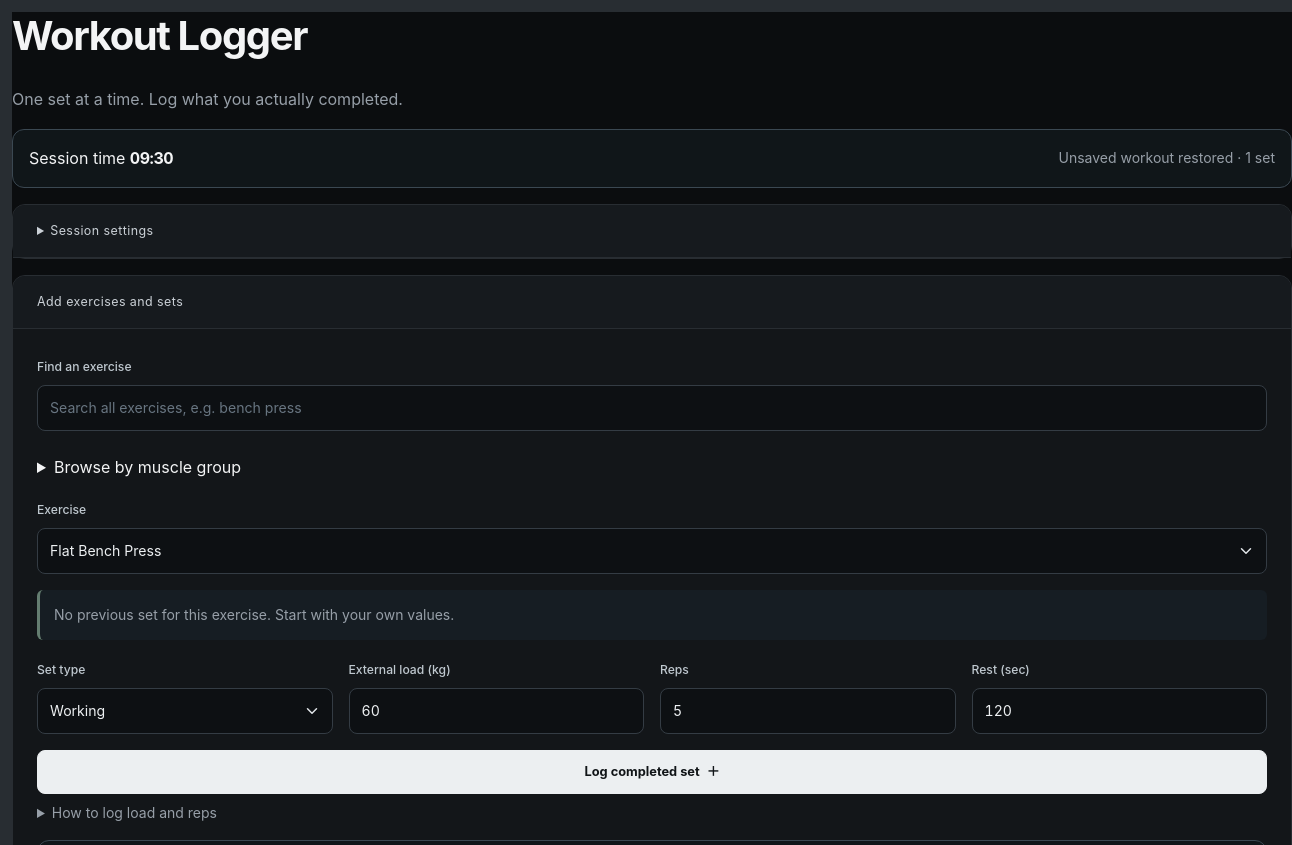
Test: workout logger › changes the split, its day and the duration in the session settings
The width and height of the screenshot is (1292, 845).
Click the heading "Session settings" at (102, 231), box [13, 205, 1291, 258]
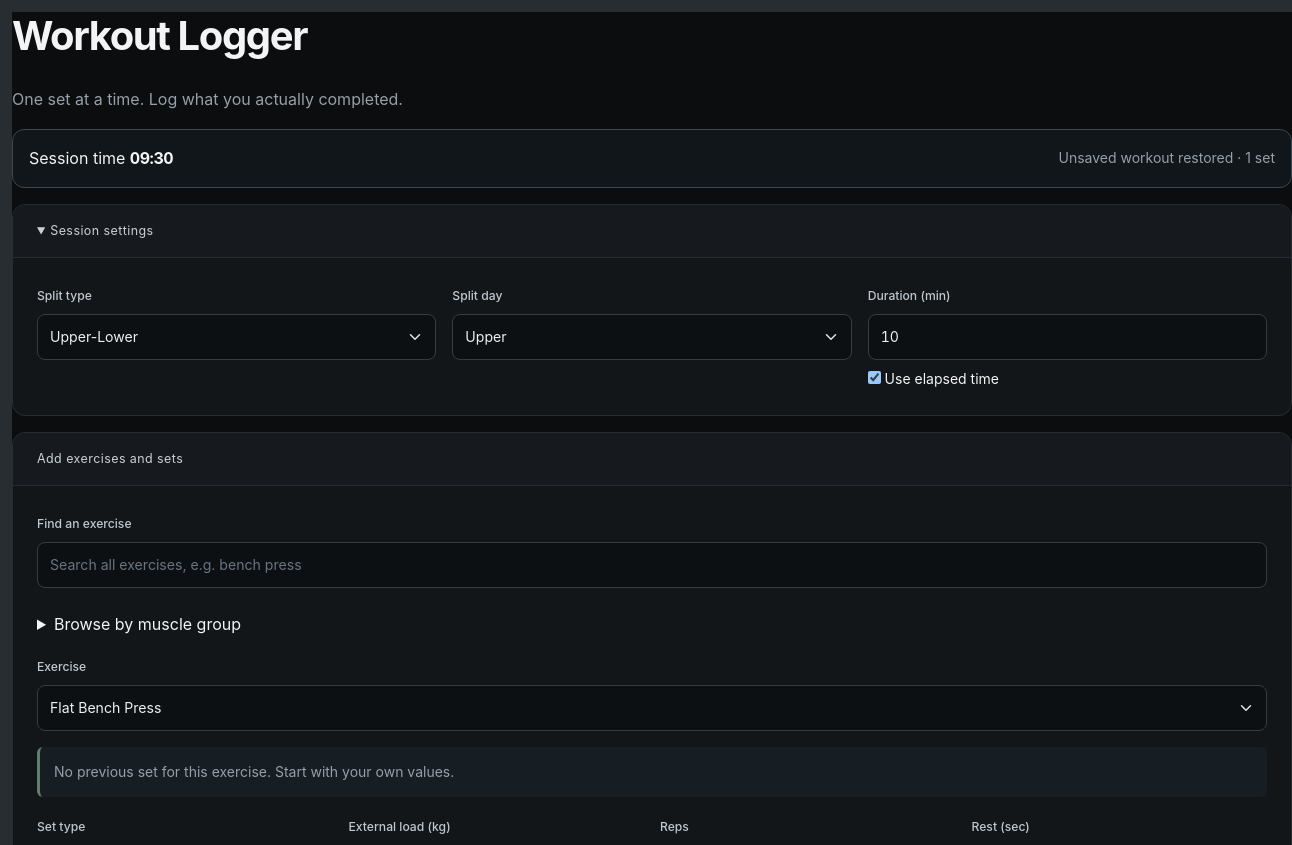
Result: the number field labelled "Duration (min)" holds "10" at [868, 314, 1267, 360]
Select "Lower" in the dropdown labelled "Split day" at (652, 337), box [452, 314, 852, 360]
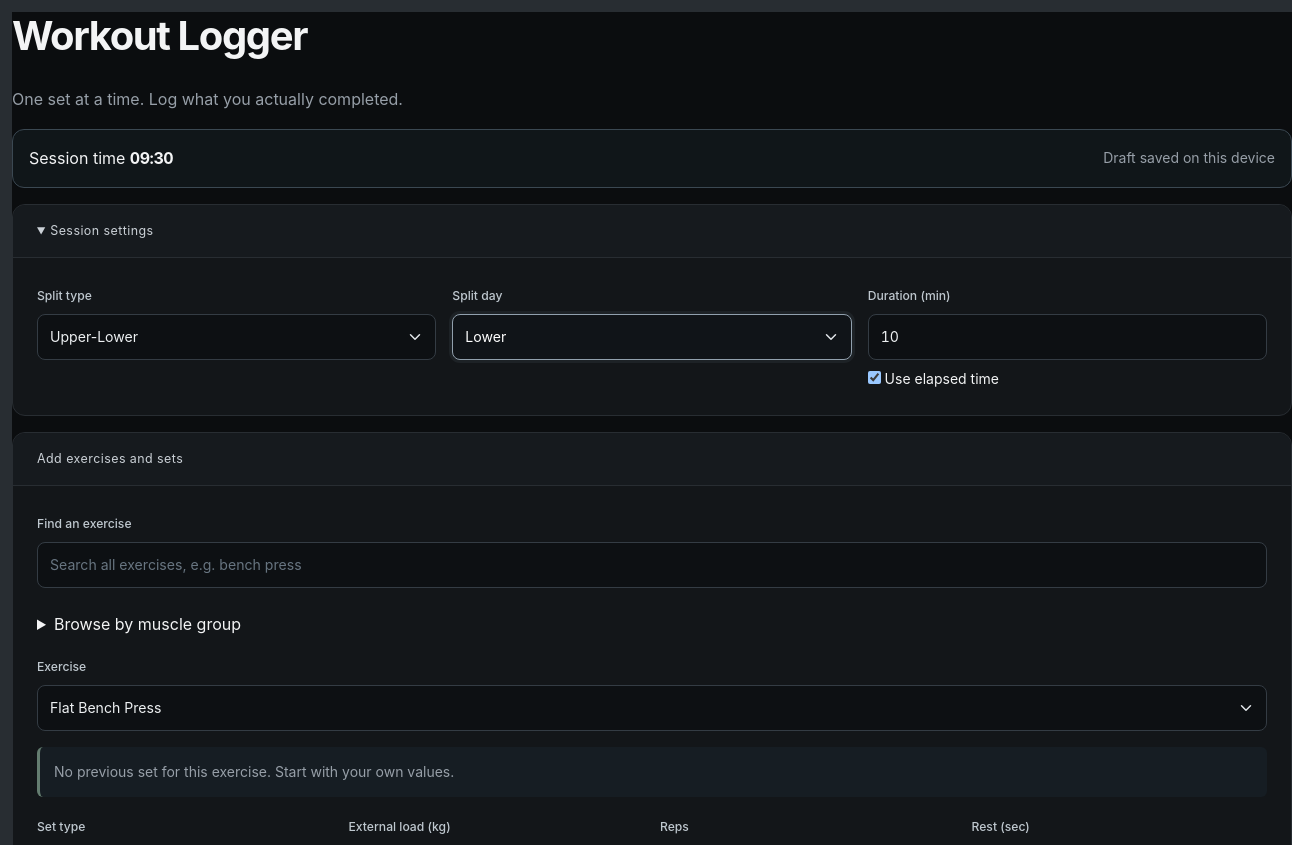
Select "Full-body" in the dropdown labelled "Split type" at (237, 337), box [37, 314, 436, 360]
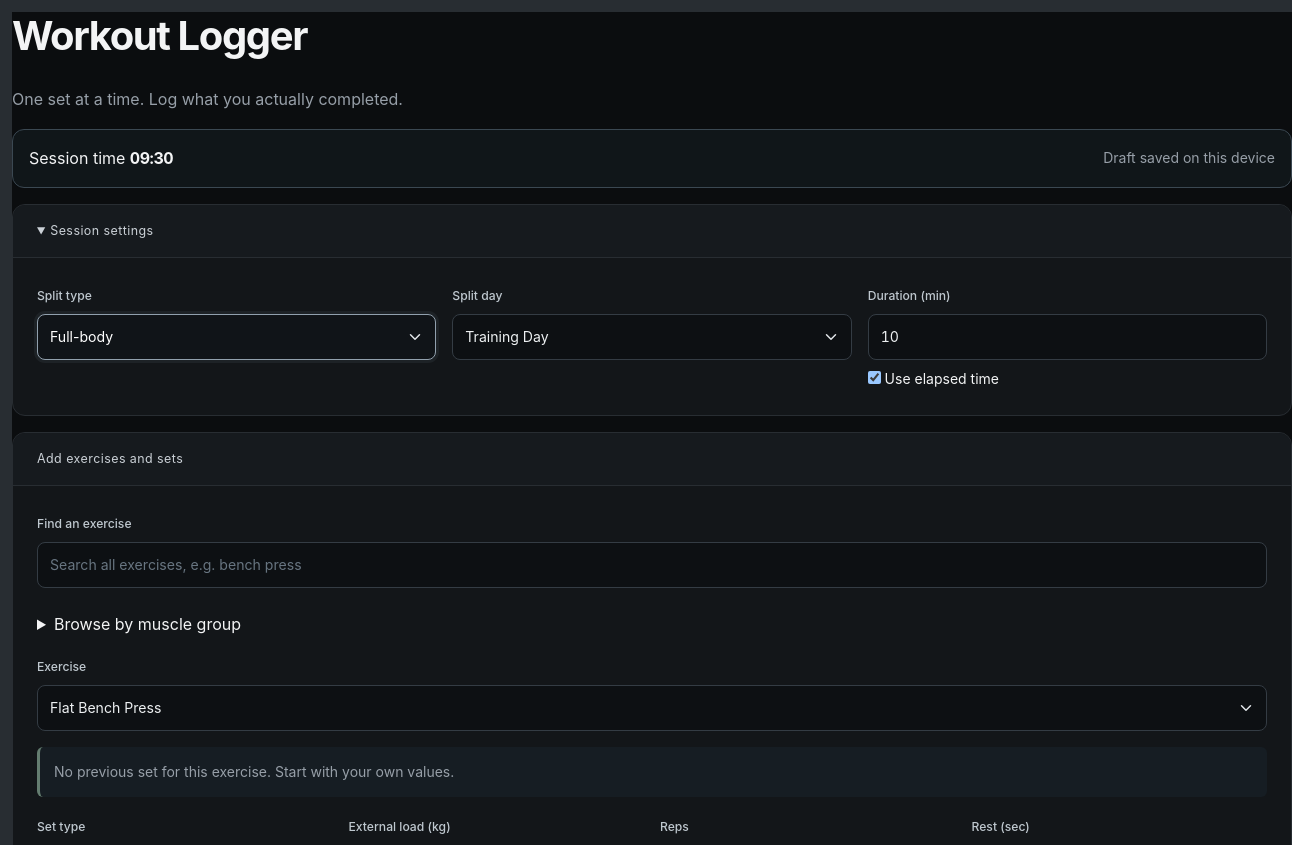
Click the checkbox labelled "Use elapsed time" at (874, 377), box [868, 371, 881, 384]
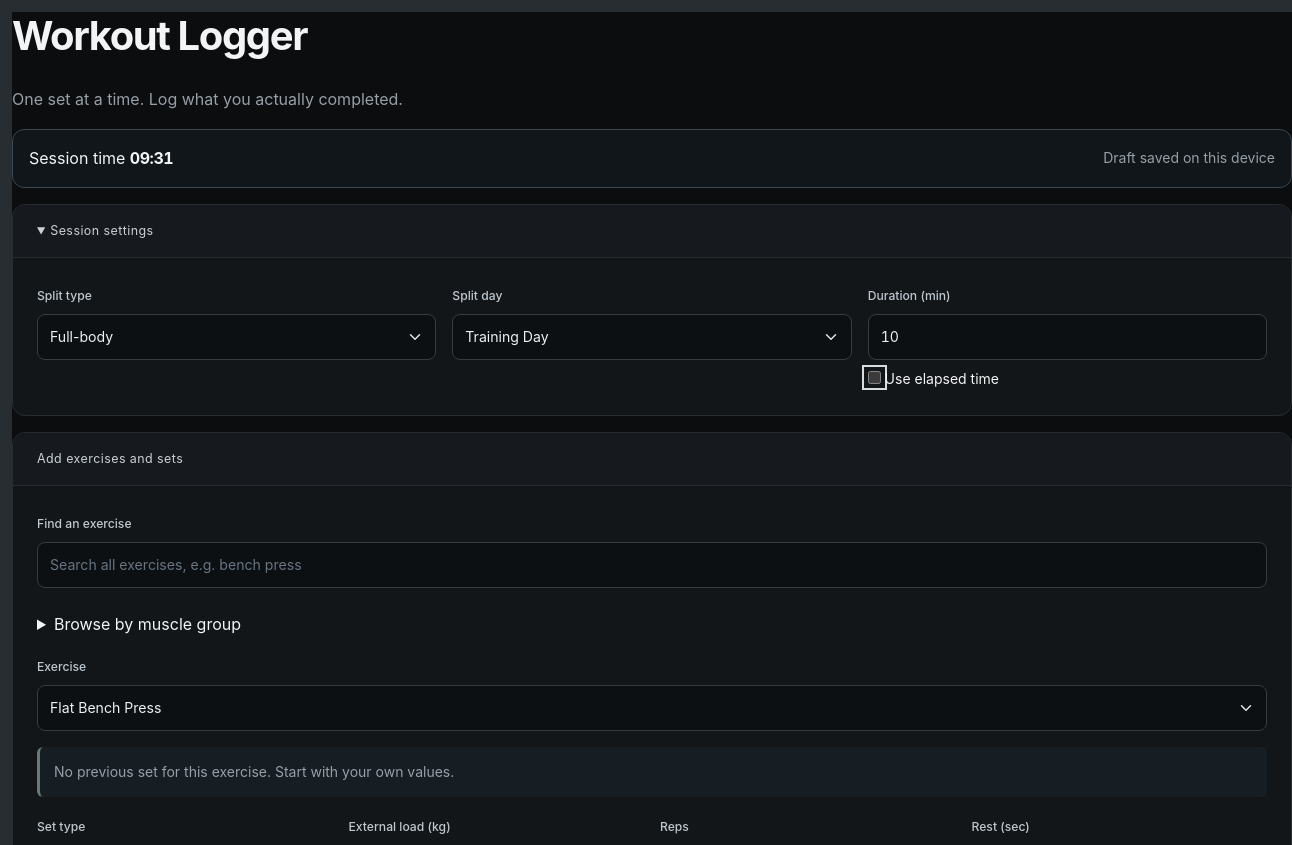
Replace the text in the number field labelled "Duration (min)" with "45" at (1067, 337), box [868, 314, 1267, 360]
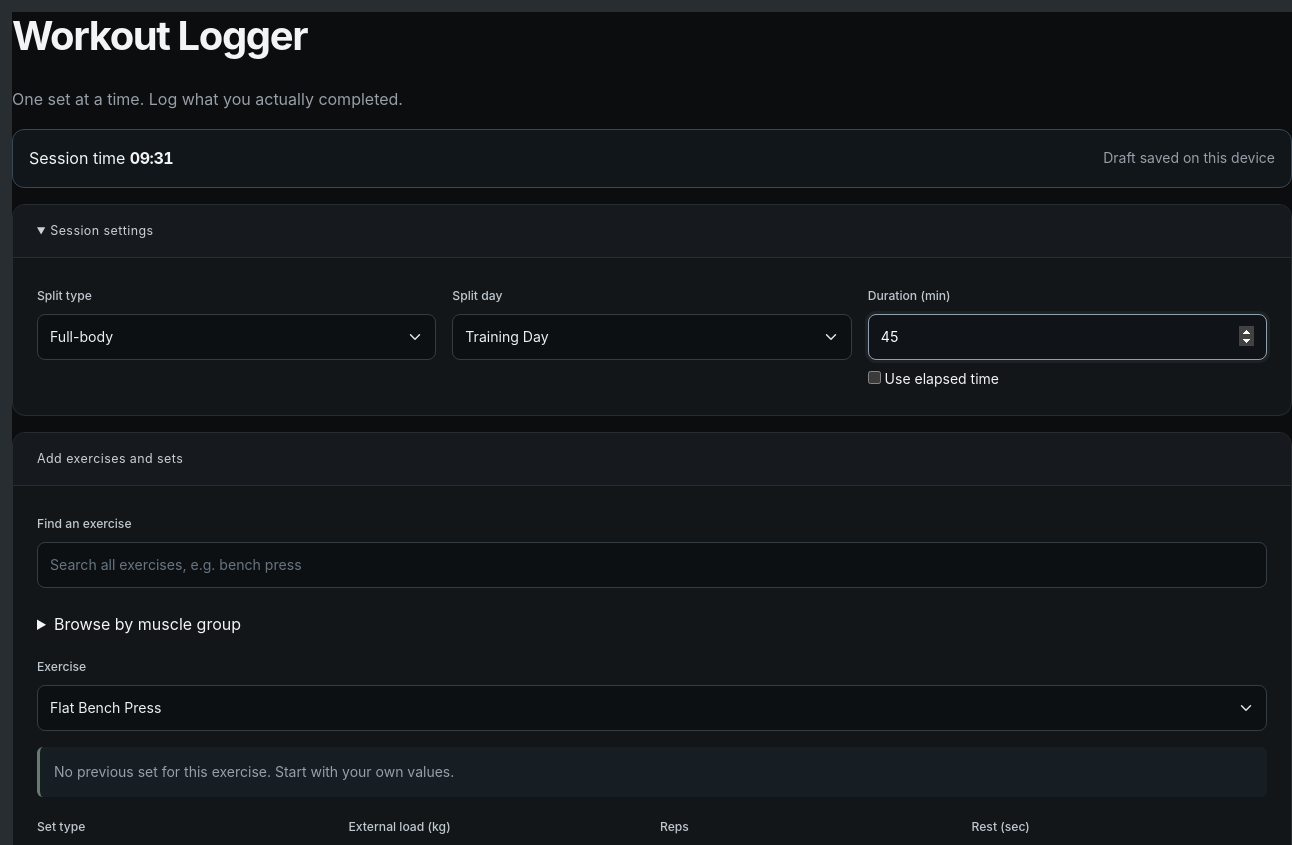
Click the checkbox labelled "Use elapsed time" at (874, 377), box [868, 371, 881, 384]
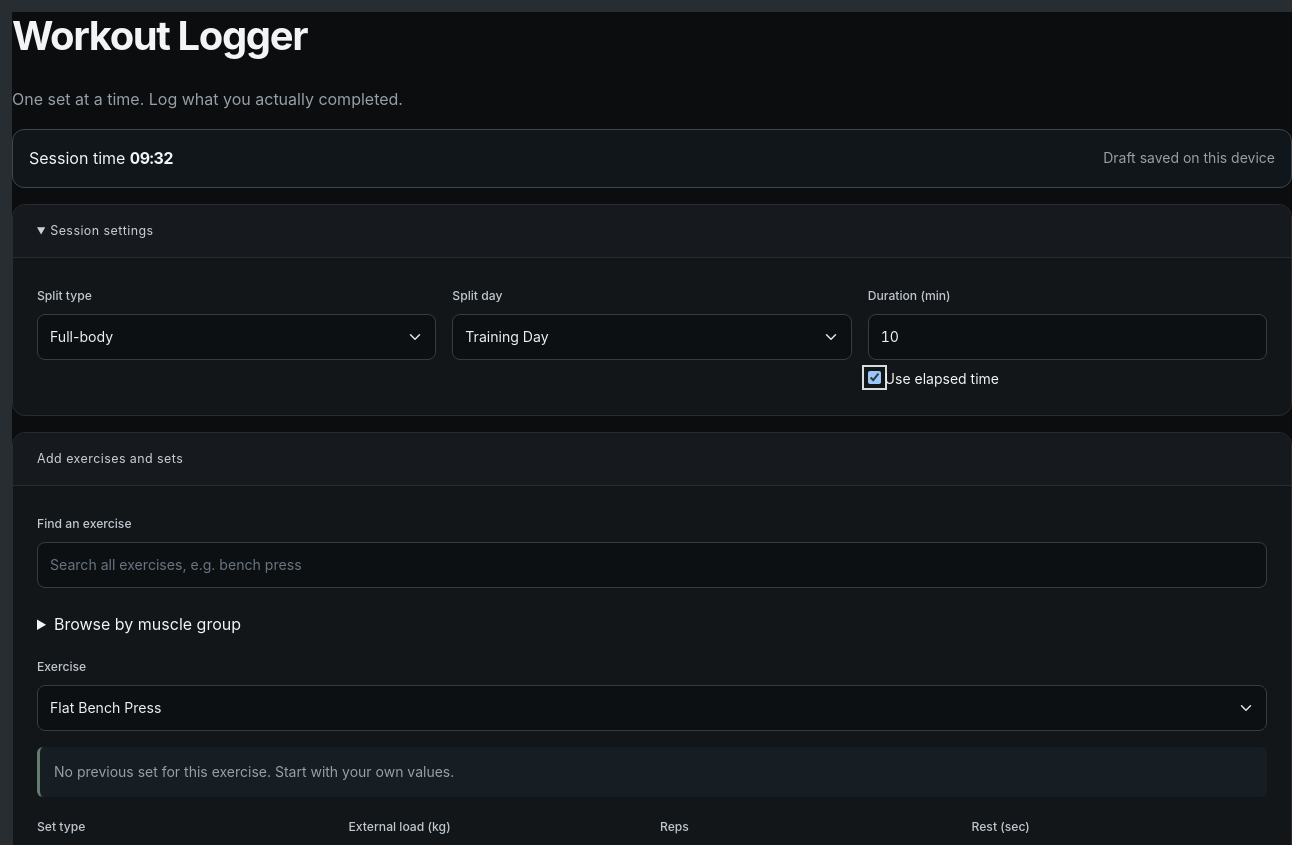
Result: the number field labelled "Duration (min)" holds "10" at [868, 314, 1267, 360]
